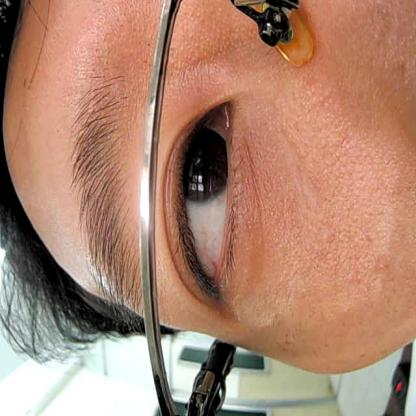Left: (160, 85, 247, 304)
